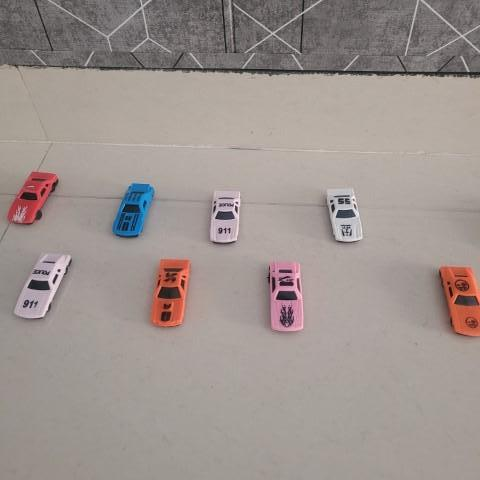car: (17, 248, 73, 324), (263, 258, 309, 332), (5, 170, 62, 227), (152, 257, 195, 328), (111, 182, 159, 241), (326, 184, 367, 247), (208, 187, 247, 244)
